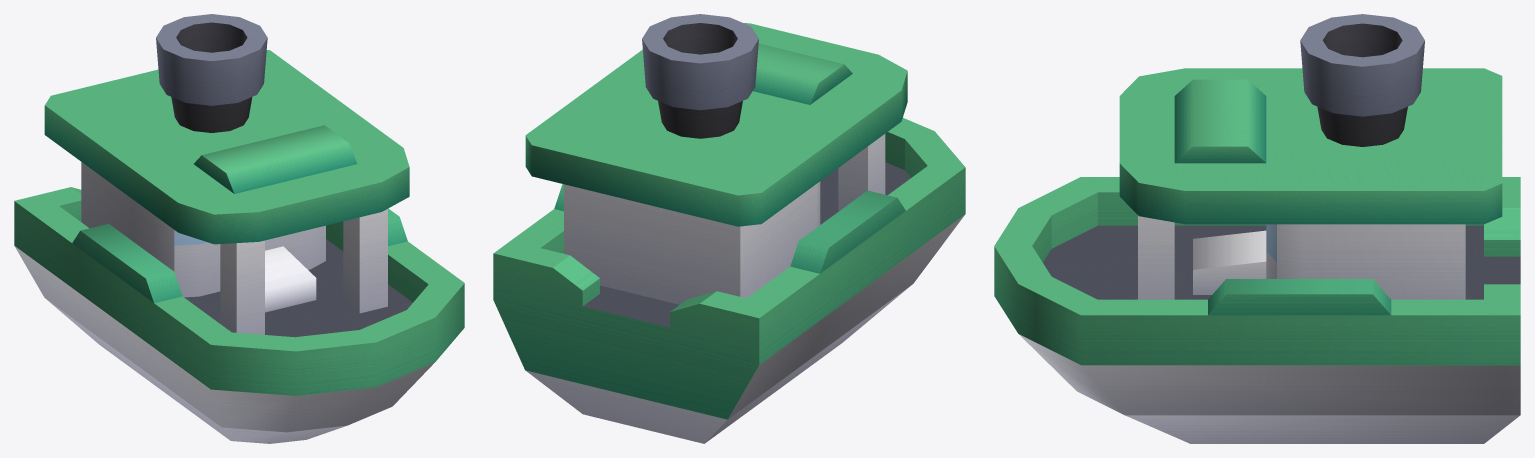
File: boat-tug-b.glb
3 views of the same model, side by side, from view 1: azimuth 30°, elevation 25°; view 2: azimuth 150°, elevation 25°; view 3: azimuth 270°, elevation 25° (orthographic). The views are drawn at different scales.
Visible parts, largest first — view 1: boat-tug-b; view 2: boat-tug-b; view 3: boat-tug-b.
Part boxes in pixels (x1=…): boat-tug-b: x1=14, y1=14, x2=464, y2=443; boat-tug-b: x1=493, y1=14, x2=965, y2=443; boat-tug-b: x1=994, y1=14, x2=1520, y2=443.
Size of the model in its own units: 6.07 by 7.61 by 9.76.
1 material, 1 textured.
